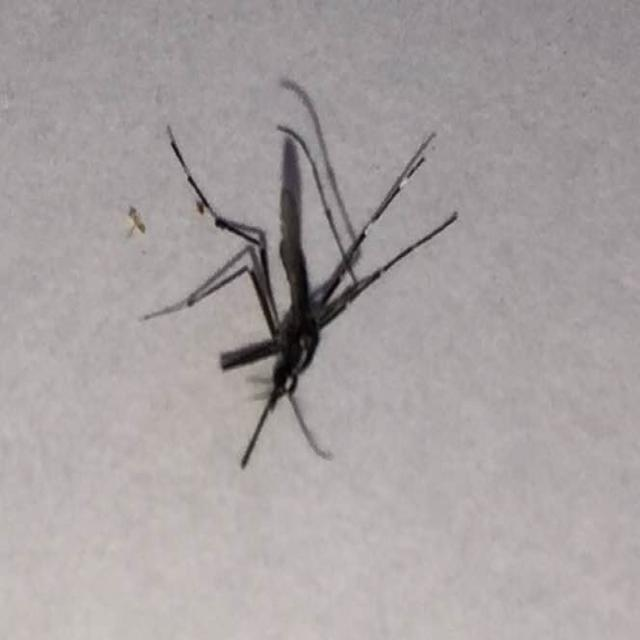albopictus: (133, 78, 469, 478)
